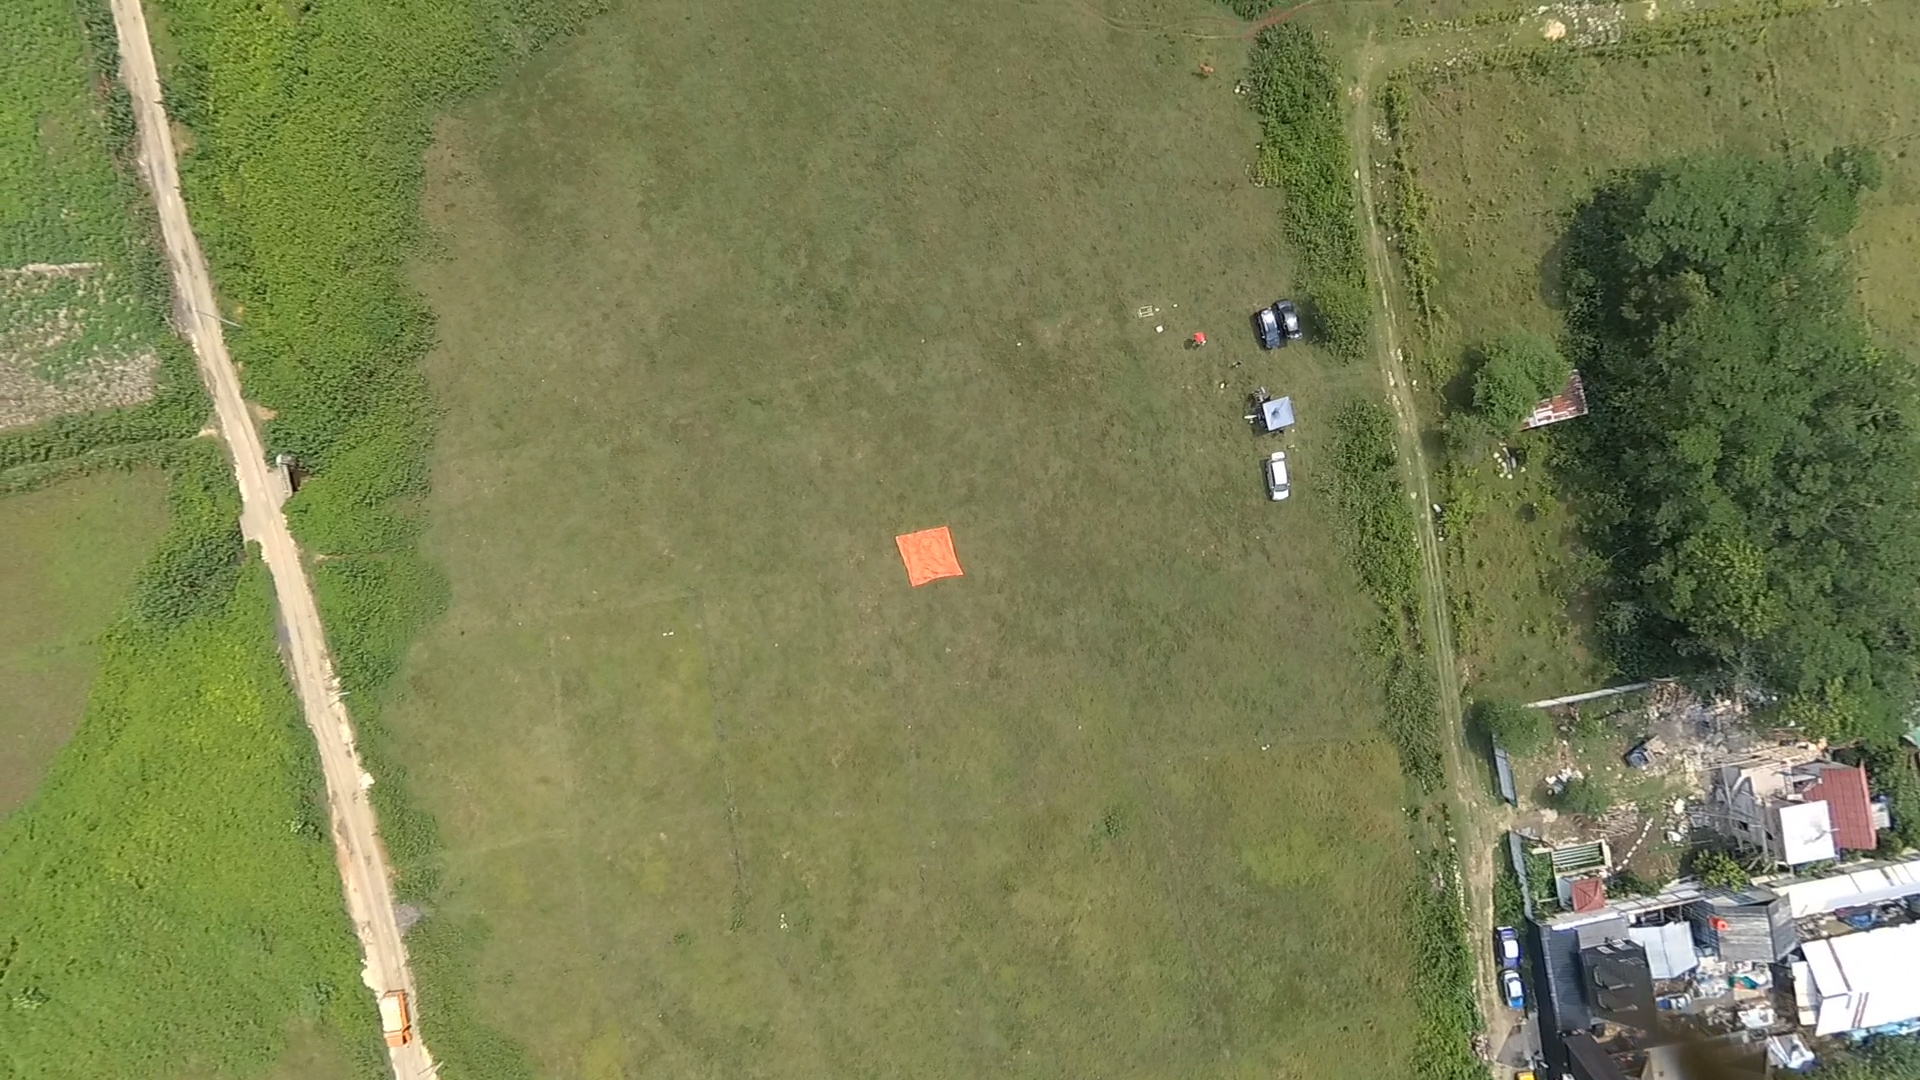Orange Dropzone: (891, 522, 967, 589)
